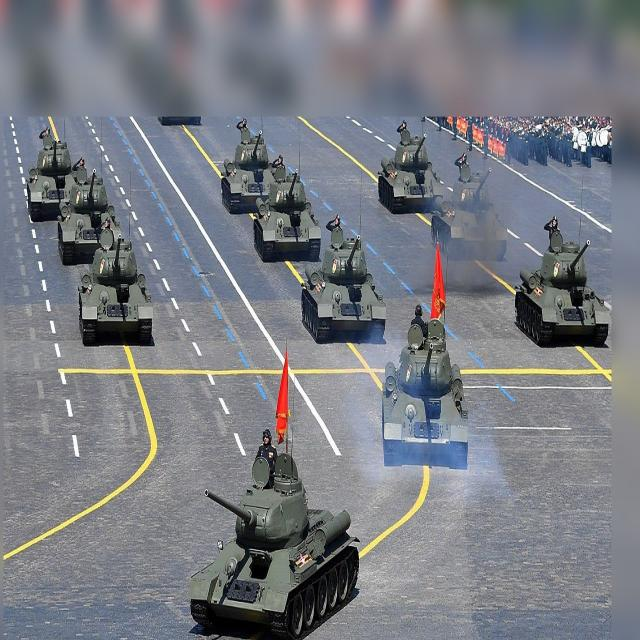tank: (188, 445, 362, 639), (378, 314, 469, 472), (514, 215, 610, 348), (292, 214, 387, 344), (432, 154, 508, 266), (77, 246, 155, 348), (221, 123, 301, 216), (250, 165, 322, 261), (54, 178, 122, 266), (378, 130, 446, 214), (26, 133, 90, 221)
